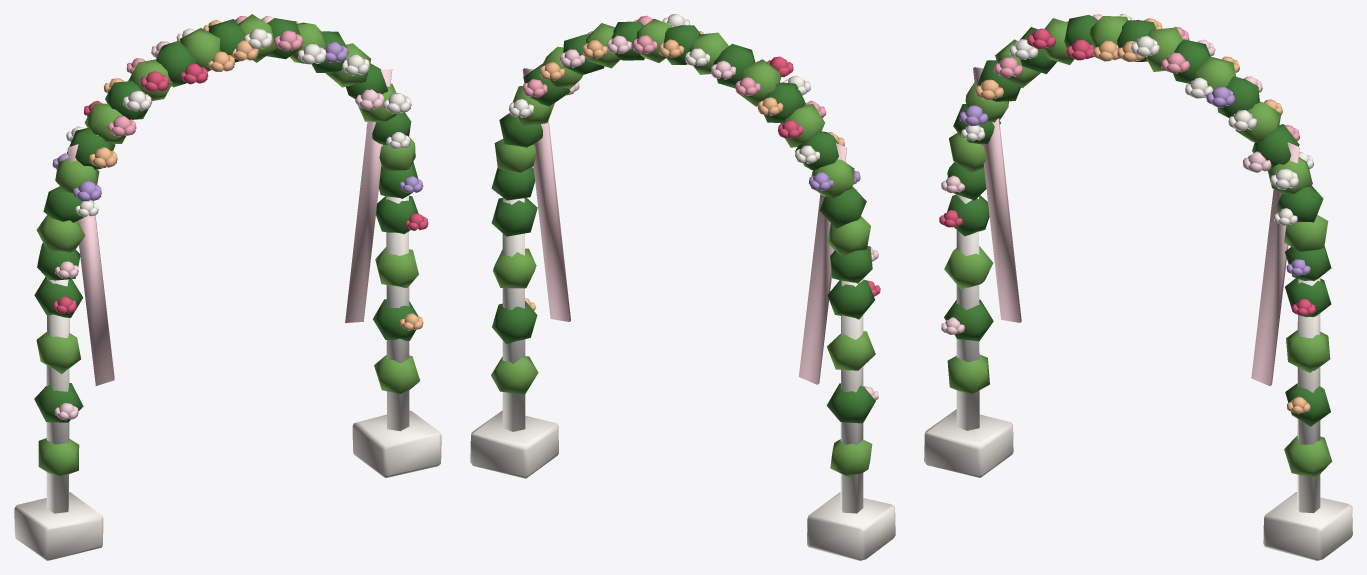
Rendered from arco_flores.glb.
The picture shows the model from 3 angles, left to right: view 1: azimuth 30°, elevation 25°; view 2: azimuth 150°, elevation 25°; view 3: azimuth 330°, elevation 25°; orthographic projection.
Visible parts, largest first — view 1: Arco_Flores; view 2: Arco_Flores; view 3: Arco_Flores.
Boxes of the visible parts, x1,y1,x2,y2 form: Arco_Flores: (14, 14, 441, 560); Arco_Flores: (470, 14, 895, 560); Arco_Flores: (924, 14, 1352, 560).
Size of the model in its own units: 2.34 by 2.71 by 0.3818.
